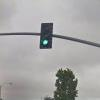traffic lights: (41, 23, 52, 49)
